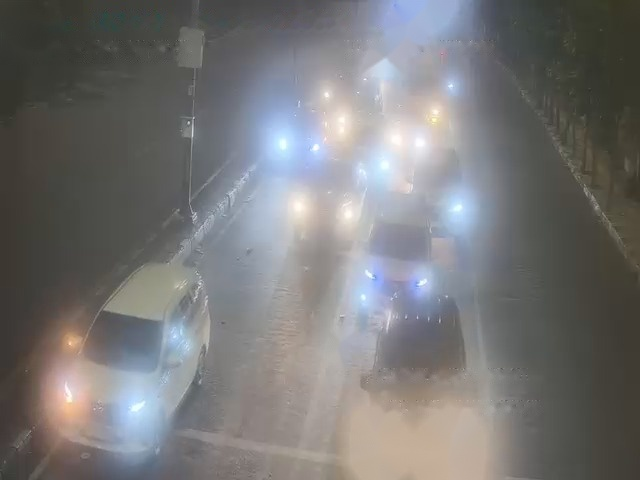Mobil: (72, 259, 205, 432), (371, 294, 471, 466), (364, 201, 429, 302), (292, 142, 361, 236), (413, 149, 461, 226), (273, 98, 324, 162)
